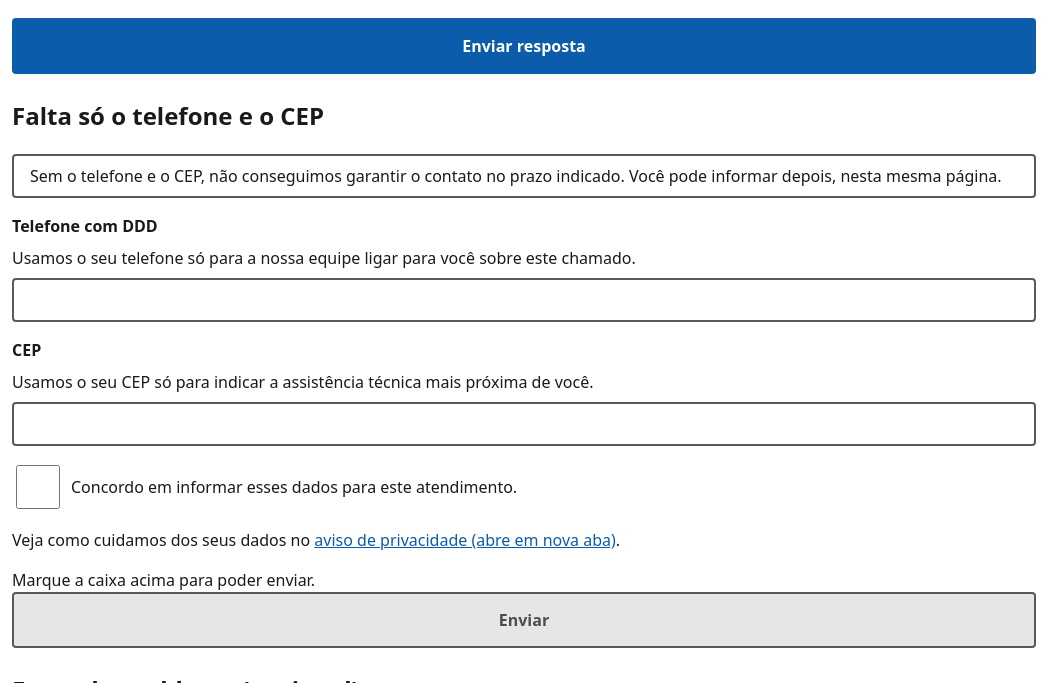
Test case: formulário de contato › envia só com consentimento, com os campos pedidos, e confirma
The width and height of the screenshot is (1048, 683).
(page scrolled)
Type "(11) 91234-5678" into the field labelled "Telefone com DDD".
click(524, 300); type("(11) 91234-5678")  # box x1=12 y1=278 x2=1036 y2=322
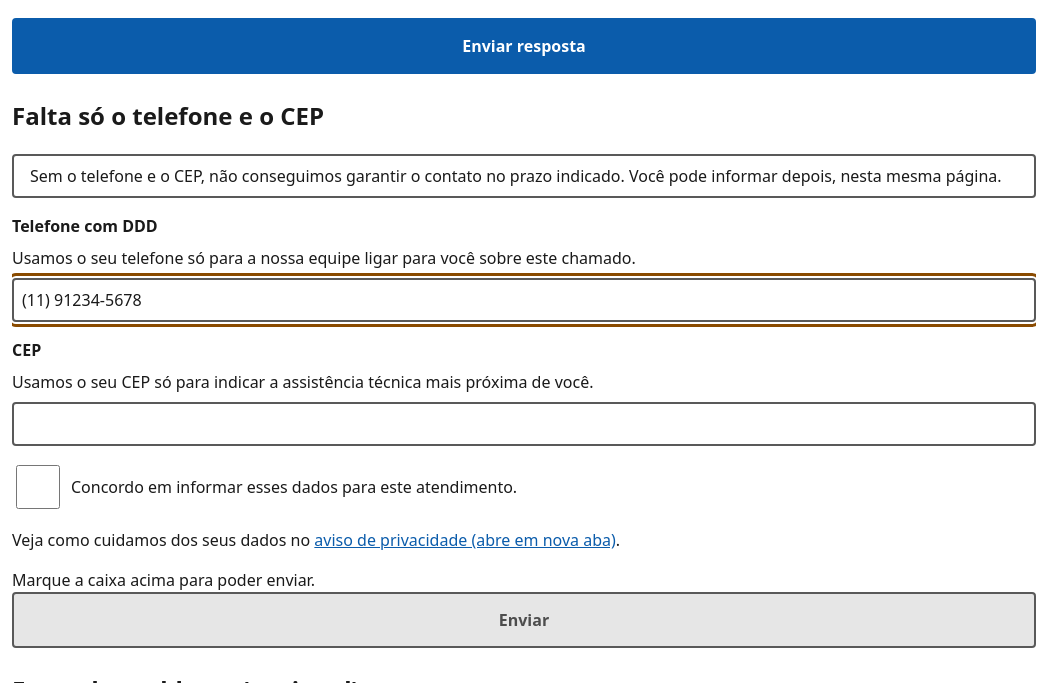
Type "01310-100" into the field labelled "CEP".
click(524, 424); type("01310-100")  # box x1=12 y1=402 x2=1036 y2=446
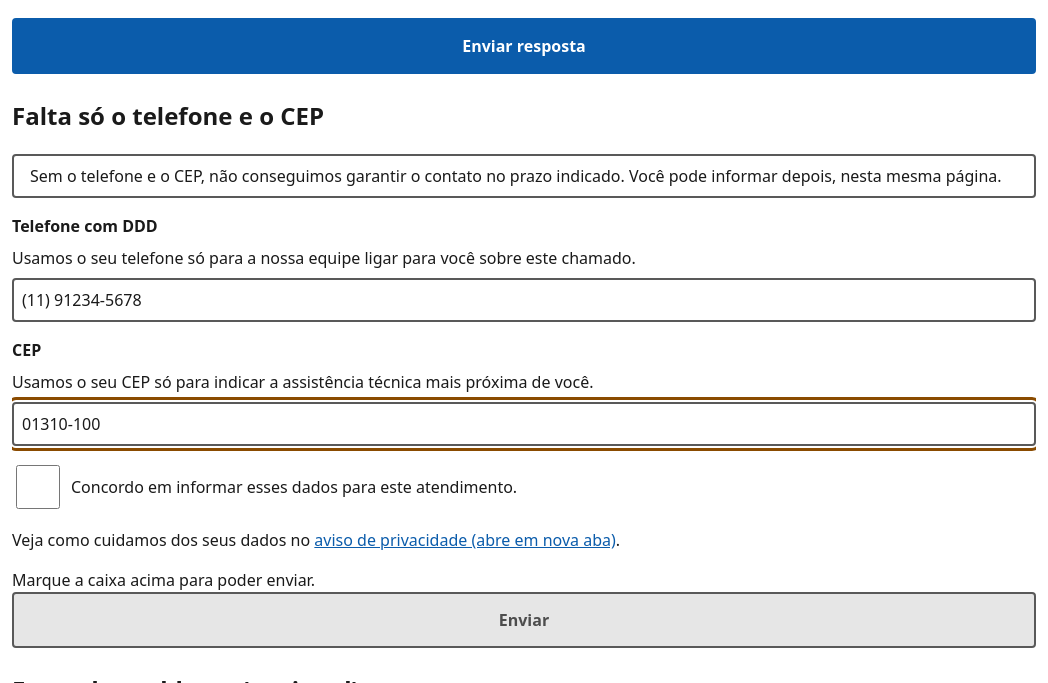
Click the checkbox.
click(38, 486)  # box x1=16 y1=464 x2=60 y2=508
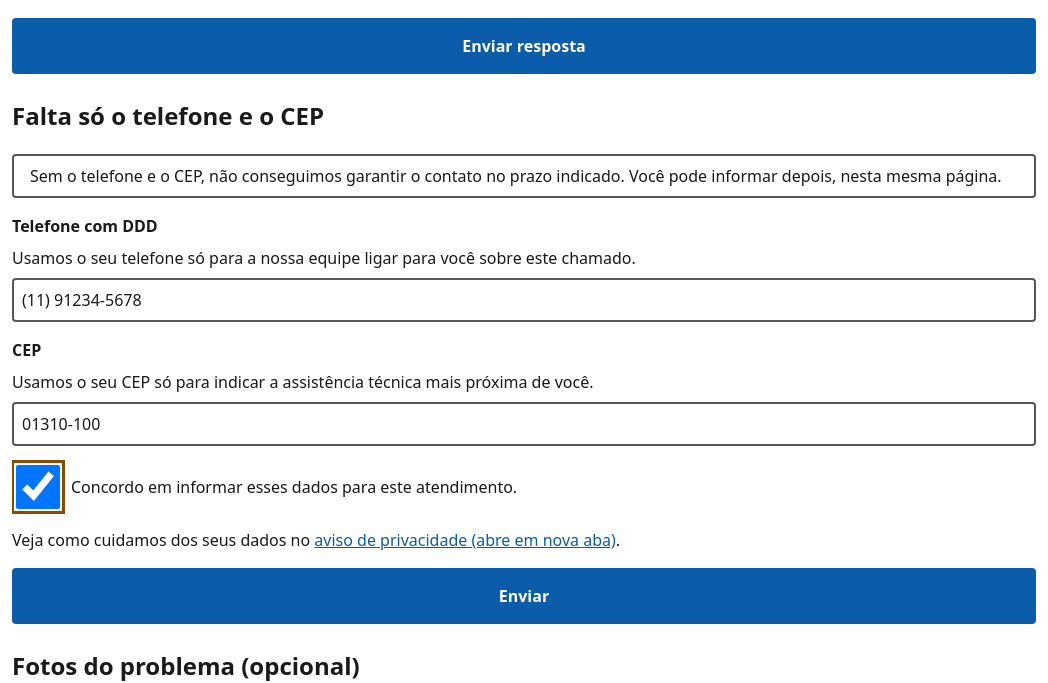
Click the button "Enviar".
click(524, 596)  # box x1=12 y1=568 x2=1036 y2=624
(page scrolled)
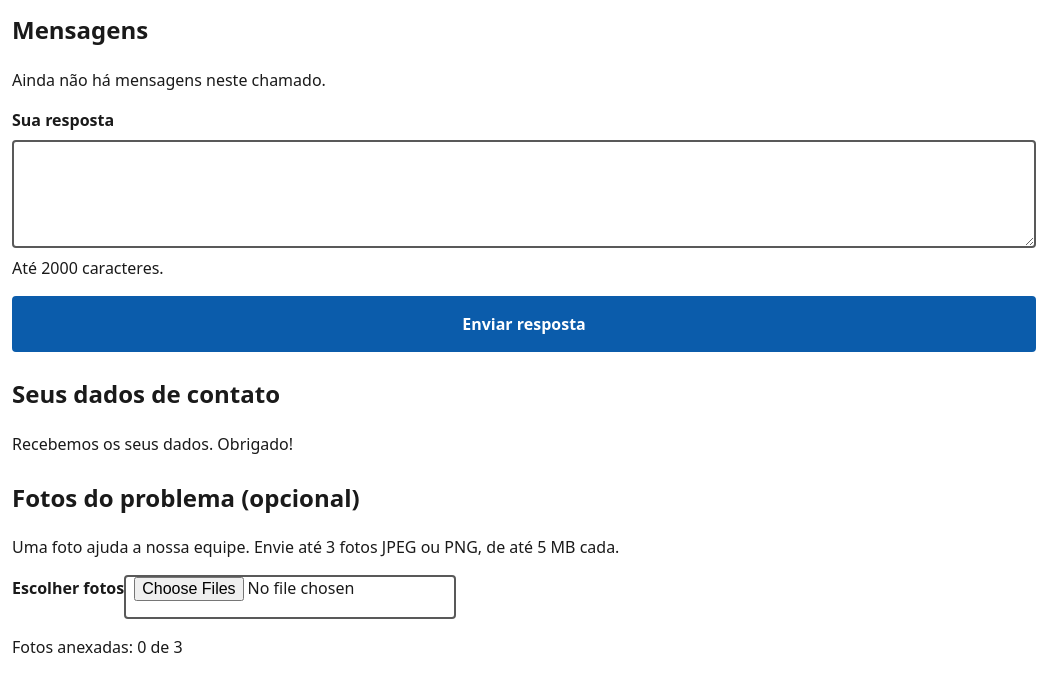
expect the text "Recebemos os seus dados. Obrigado!" is shown: met, box x1=12 y1=432 x2=293 y2=454
expect the heading labelled "CEP" is gone: met
